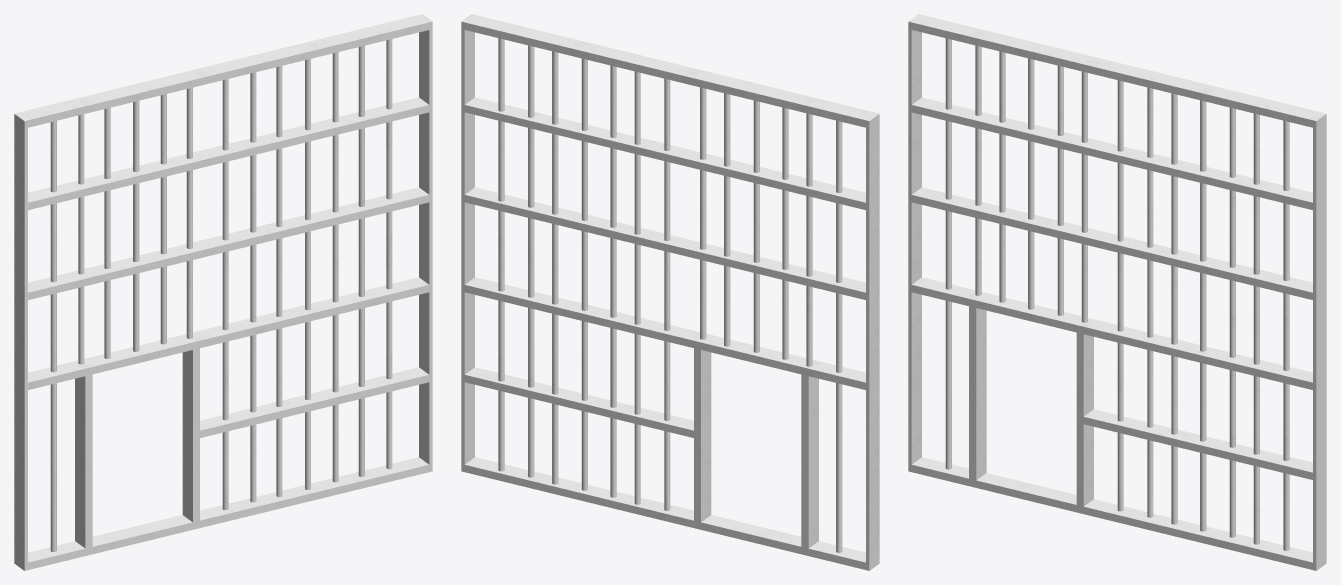
Rendered from EscapeDoorFrame.obj.
3 renders of one model, left to right at view 1: azimuth 30°, elevation 25°; view 2: azimuth 150°, elevation 25°; view 3: azimuth 330°, elevation 25°, orthographic.
Visible parts, largest first — view 1: Part11, Part12, Part13, Part9, Part14, Part4, Part21, Part15, Part5, Part10, Part3, Part23 (+11 smaller); view 2: Part11, Part12, Part13, Part9, Part14, Part4, Part21, Part15, Part5, Part10, Part3, Part20 (+11 smaller); view 3: Part11, Part9, Part13, Part14, Part12, Part21, Part4, Part15, Part5, Part10, Part3, Part16 (+11 smaller).
Boxes of the visible parts, left/top/right/bottom form: Part11: left=14, top=14, right=432, bottom=128; Part12: left=14, top=457, right=432, bottom=570; Part13: left=28, top=187, right=432, bottom=299; Part9: left=28, top=97, right=432, bottom=210; Part14: left=28, top=277, right=432, bottom=389; Part4: left=14, top=121, right=27, bottom=563; Part21: left=419, top=29, right=432, bottom=464; Part15: left=200, top=367, right=432, bottom=437; Part5: left=75, top=374, right=92, bottom=548; Part10: left=182, top=348, right=199, bottom=522; Part3: left=50, top=121, right=56, bottom=551; Part23: left=276, top=66, right=282, bottom=496; Part11: left=461, top=14, right=879, bottom=128; Part12: left=461, top=457, right=879, bottom=570; Part13: left=461, top=187, right=865, bottom=299; Part9: left=461, top=97, right=865, bottom=210; Part14: left=461, top=277, right=865, bottom=389; Part4: left=866, top=121, right=879, bottom=563; Part21: left=461, top=29, right=474, bottom=464; Part15: left=461, top=367, right=693, bottom=437; Part5: left=801, top=374, right=818, bottom=548; Part10: left=694, top=348, right=711, bottom=522; Part3: left=836, top=120, right=842, bottom=552; Part20: left=498, top=38, right=504, bottom=471; Part11: left=908, top=14, right=1326, bottom=128; Part9: left=911, top=97, right=1326, bottom=210; Part13: left=911, top=187, right=1326, bottom=300; Part14: left=911, top=277, right=1326, bottom=390; Part12: left=908, top=457, right=1326, bottom=570; Part21: left=1313, top=121, right=1326, bottom=563; Part4: left=908, top=29, right=921, bottom=464; Part15: left=1083, top=409, right=1326, bottom=479; Part5: left=969, top=306, right=986, bottom=480; Part10: left=1076, top=332, right=1093, bottom=506; Part3: left=945, top=38, right=951, bottom=469; Part16: left=1117, top=80, right=1123, bottom=511.
Bounding box in the file's own units: 28.5 × 30 × 1.25.
Materials: 1 (1 with a texture image).
